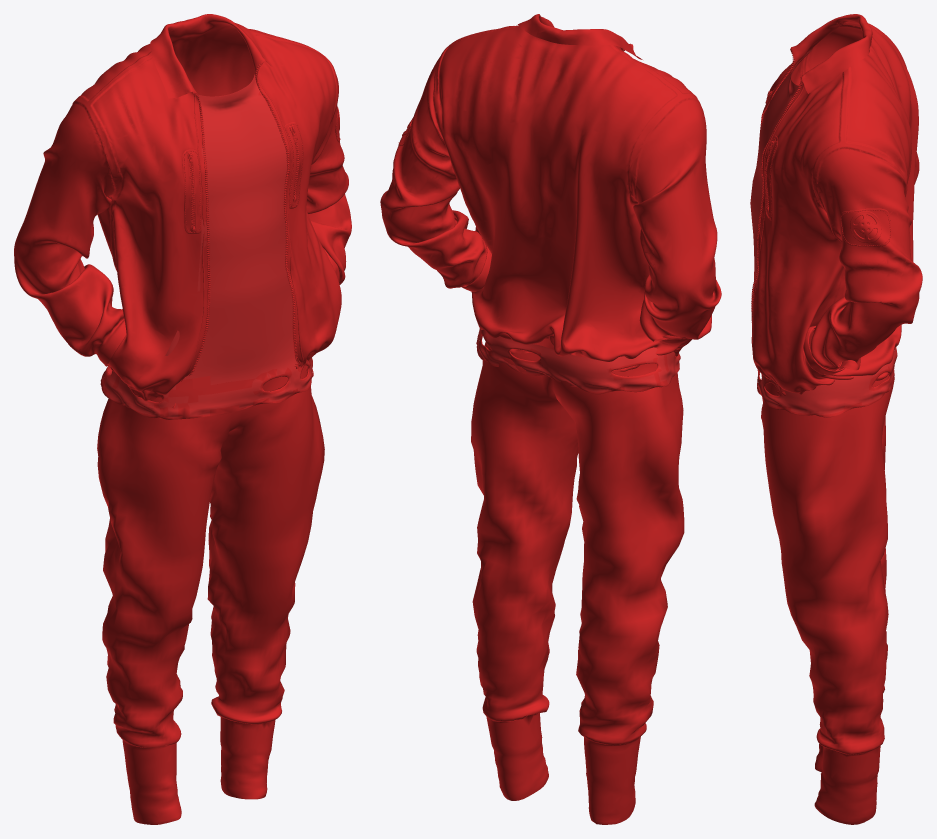
File: realistic_human_cloths_opt.glb
3 renders of one model, left to right at view 1: azimuth 30°, elevation 25°; view 2: azimuth 150°, elevation 25°; view 3: azimuth 270°, elevation 25°, orthographic.
Parts seen in each view (by area): view 1: jecket_only1_lambert3_0, pent_and_tshirt:polySurface26_lambert4_0; view 2: jecket_only1_lambert3_0, pent_and_tshirt:polySurface26_lambert4_0; view 3: jecket_only1_lambert3_0, pent_and_tshirt:polySurface26_lambert4_0.
Part boxes in pixels (x1,y1,x2,y2): jecket_only1_lambert3_0: (14, 14, 351, 824); pent_and_tshirt:polySurface26_lambert4_0: (100, 74, 312, 417); jecket_only1_lambert3_0: (380, 14, 721, 824); pent_and_tshirt:polySurface26_lambert4_0: (477, 328, 680, 392); jecket_only1_lambert3_0: (751, 14, 922, 824); pent_and_tshirt:polySurface26_lambert4_0: (750, 48, 897, 414).
Bounding box in the file's own units: 0.6634 × 1.54 × 0.3116.
